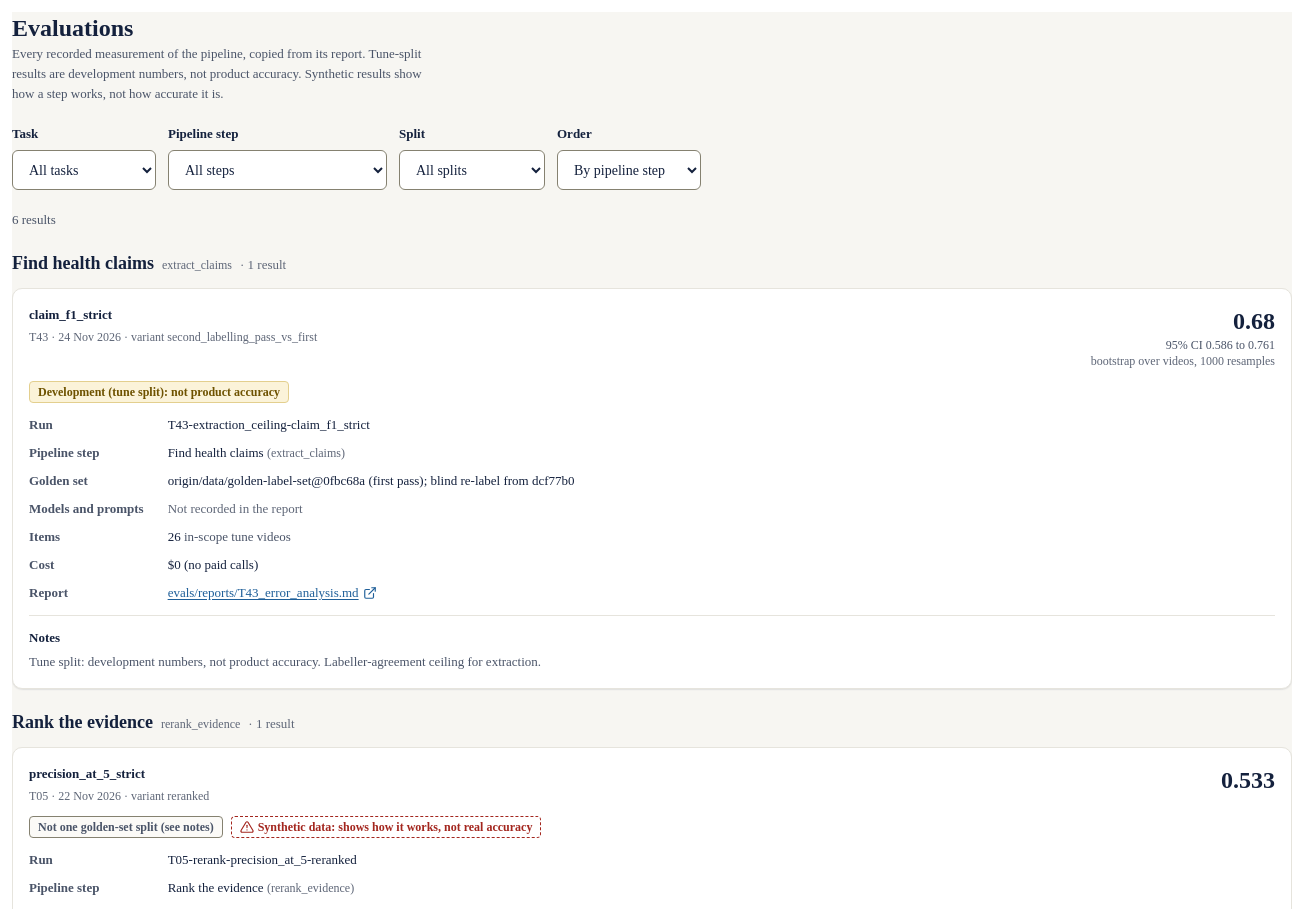
Scenario: EvalsList (T63) › sorts by date, newest first, without step groups
Select "Newest first" in the dropdown labelled "Order" at (629, 170), box top-left (557, 150), bottom-right (701, 190)
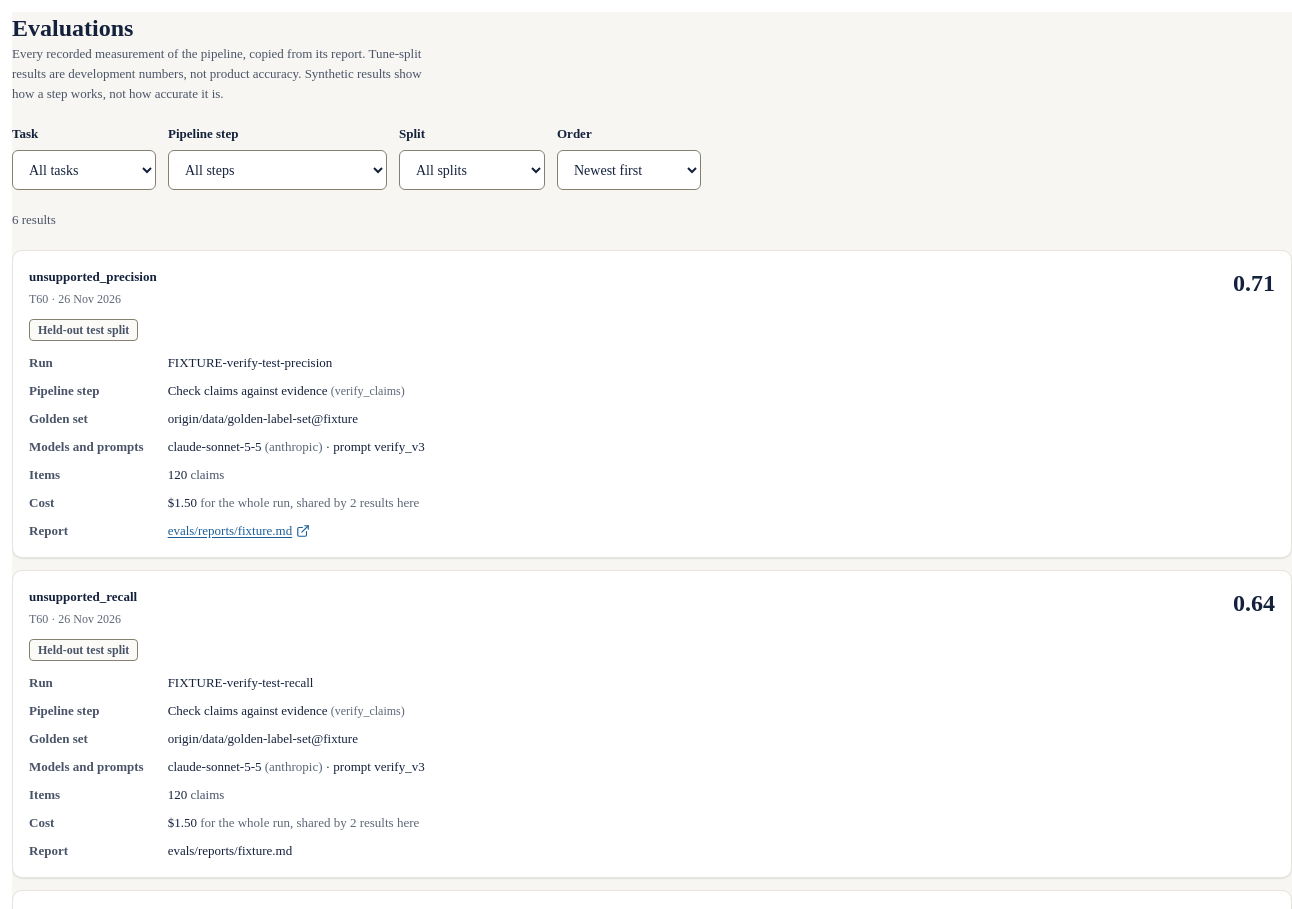
Check: no the heading "Find health claims extract_claims · 1 result" are shown
